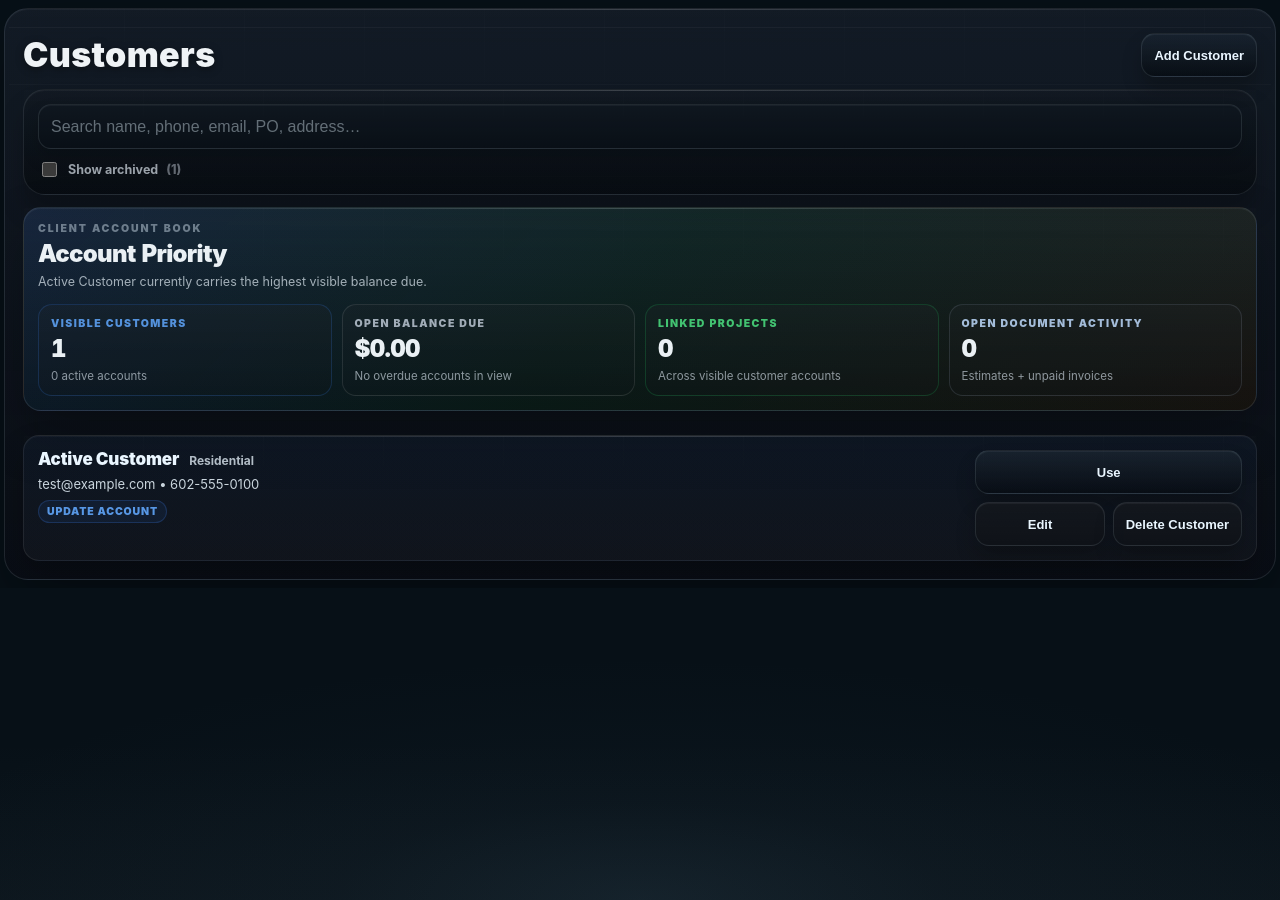
Test: CustomersScreen delete/archive safety › archived customers are hidden from the active list by default and revealed via Show archived
This screenshot has width=1280, height=900.
Expected: the text "Active Customer" is shown, [38, 450, 179, 469]
Expected: the text "Archived Customer" is not shown
Note: Reveal with the toggle.
Click the checkbox labelled "Show archived (1)".
click(50, 170)  # box [42, 162, 57, 177]
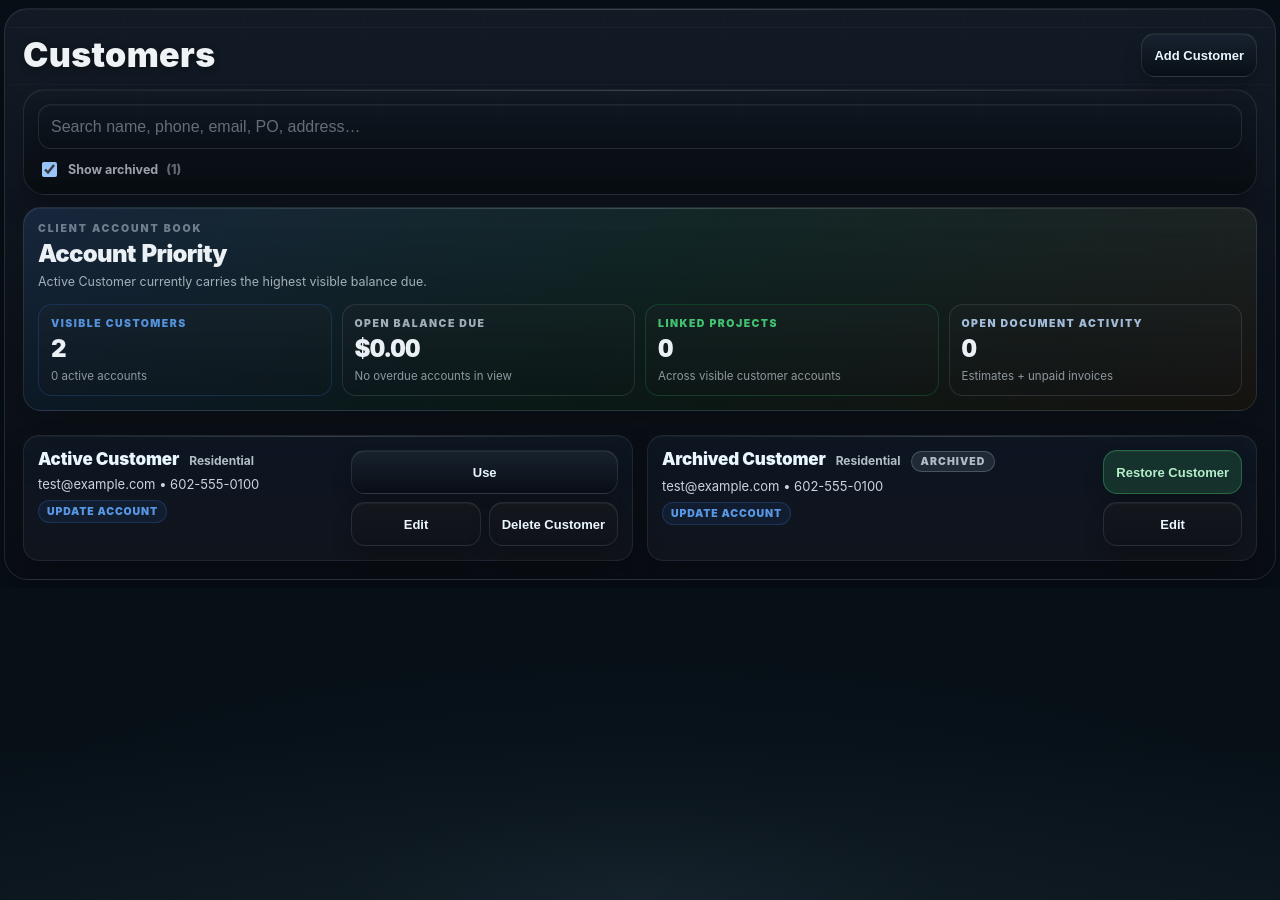
Expected: the text "Archived Customer" is shown, [662, 450, 826, 469]
Expected: the text "Archived" is shown, [910, 451, 995, 472]
Expected: the button "Restore Customer" is shown, [1103, 450, 1242, 494]
